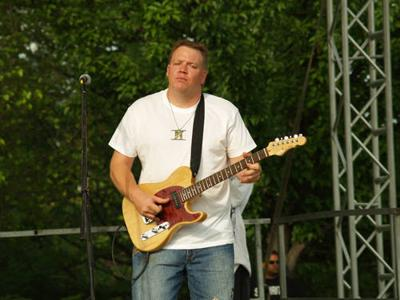person: (108, 41, 263, 300)
